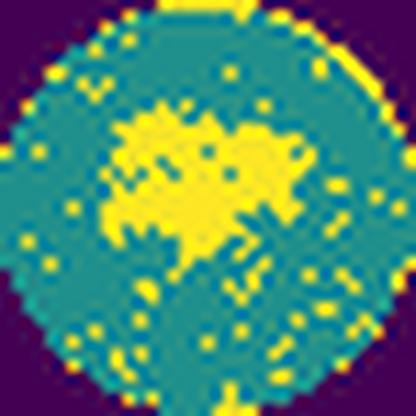Center: (102, 102, 321, 282)
